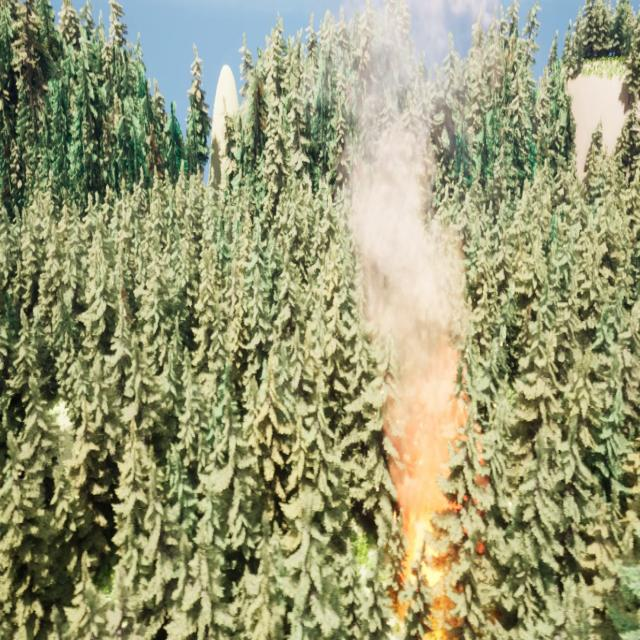fire: (398, 484, 475, 625)
smoke: (339, 0, 494, 481)
